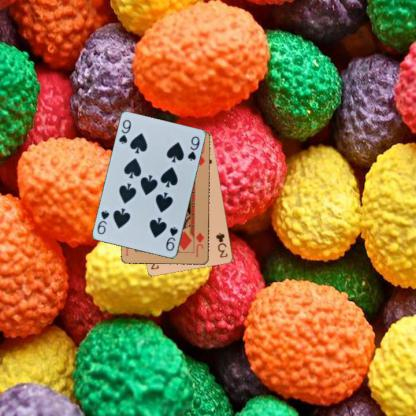3c: (213, 230, 229, 259)
9s: (164, 224, 179, 253), (117, 117, 132, 146)
Jd: (194, 230, 206, 259)
